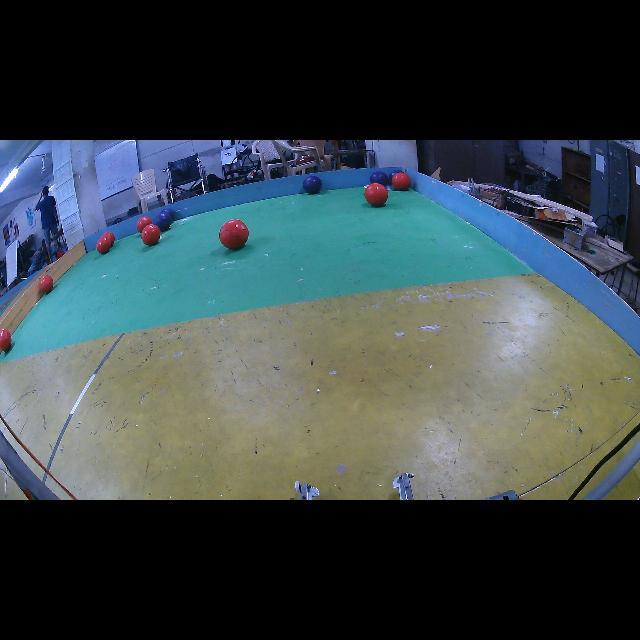P: (302, 176, 322, 194), (154, 212, 172, 231), (370, 171, 389, 186), (161, 208, 174, 220), (389, 170, 402, 182)
R: (219, 219, 249, 250), (364, 182, 389, 206), (141, 224, 160, 246), (391, 172, 411, 191), (40, 274, 54, 294), (96, 236, 111, 254), (136, 216, 152, 232), (102, 231, 115, 246)
